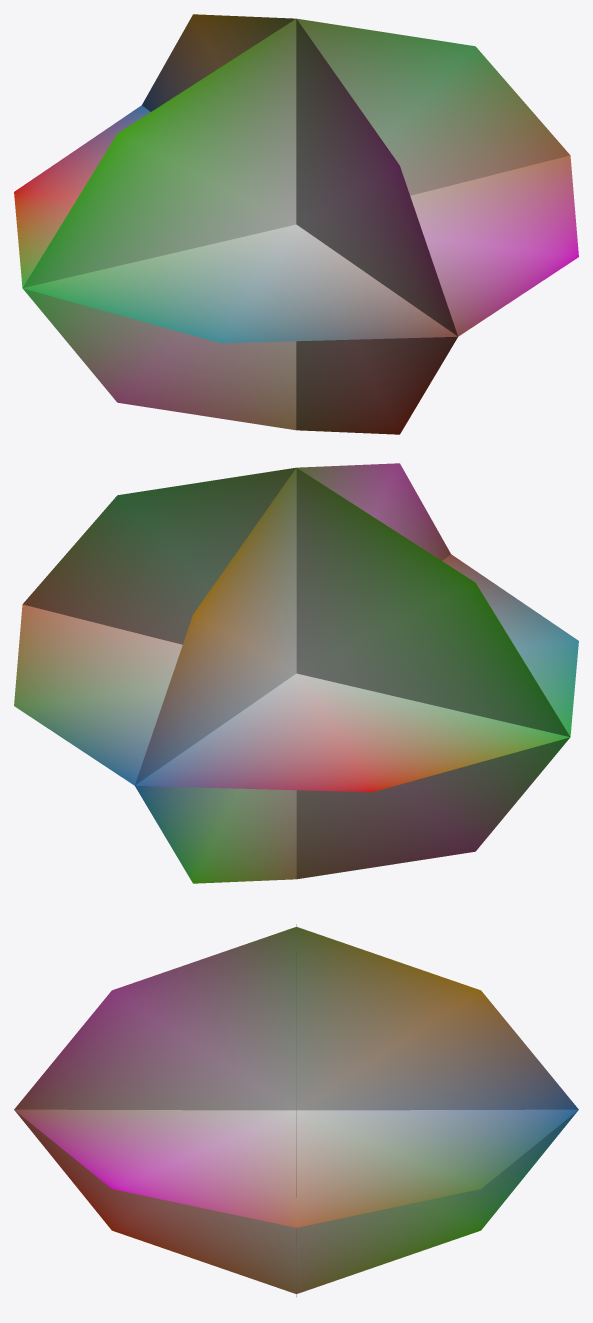
The model's file is space-asteroids-crystal-asteroid_v7.glb.
The picture shows the model from 3 angles, top to bottom: view 1: azimuth 30°, elevation 25°; view 2: azimuth 150°, elevation 25°; view 3: azimuth 270°, elevation 25°; orthographic projection. The views are drawn at different scales.
Parts seen in each view (by area): view 1: Crystal Asteroid_v7; view 2: Crystal Asteroid_v7; view 3: Crystal Asteroid_v7.
Part boxes in pixels (left/top/right/bottom): Crystal Asteroid_v7: left=14, top=14, right=578, bottom=434; Crystal Asteroid_v7: left=14, top=463, right=578, bottom=883; Crystal Asteroid_v7: left=14, top=924, right=578, bottom=1296.
Bounding box in the file's own units: 100 × 71.78 × 100.
